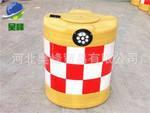sign: (41, 10, 116, 108)
